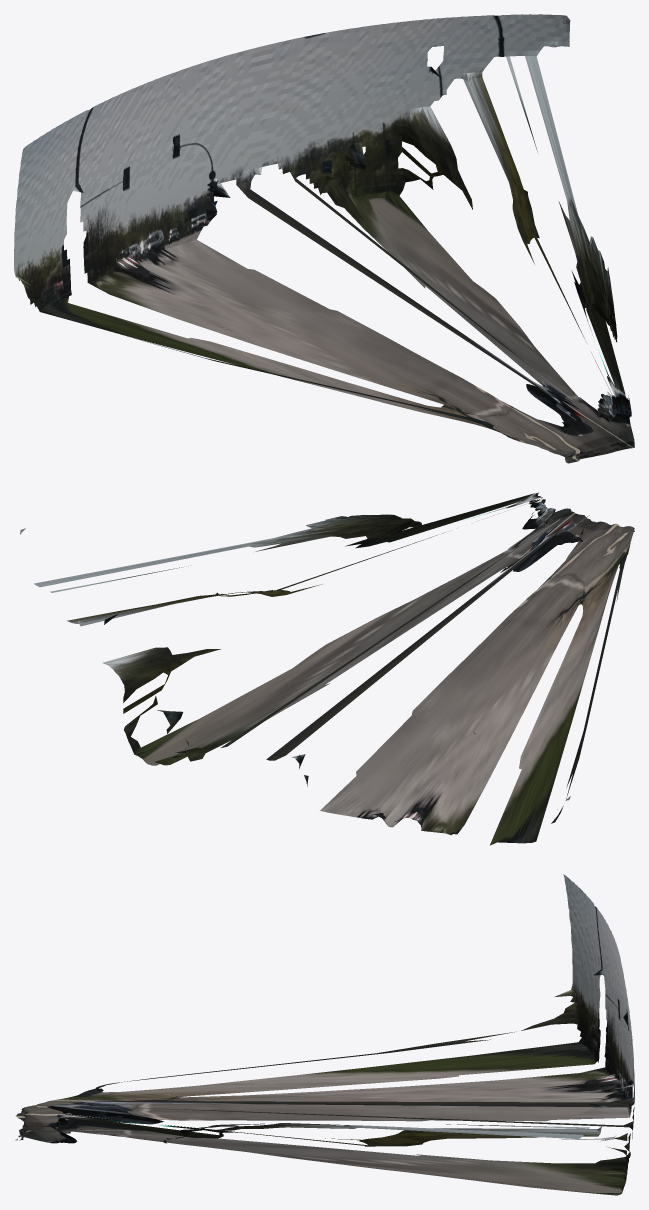
3 views of the same model, one above another, from view 1: azimuth 30°, elevation 25°; view 2: azimuth 150°, elevation 25°; view 3: azimuth 270°, elevation 25° (orthographic). The views are drawn at different scales.
Visible parts, largest first — view 1: defaultobject; view 2: defaultobject; view 3: defaultobject.
Boxes of the visible parts, x1,y1,x2,y2 form: defaultobject: [14, 14, 634, 463]; defaultobject: [20, 492, 634, 845]; defaultobject: [15, 874, 634, 1195].
Bounding box in the file's own units: 40.97 × 13.73 × 44.62.
1 material, 1 textured.
